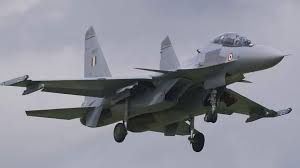maybay_muctieu: (11, 30, 289, 149)
